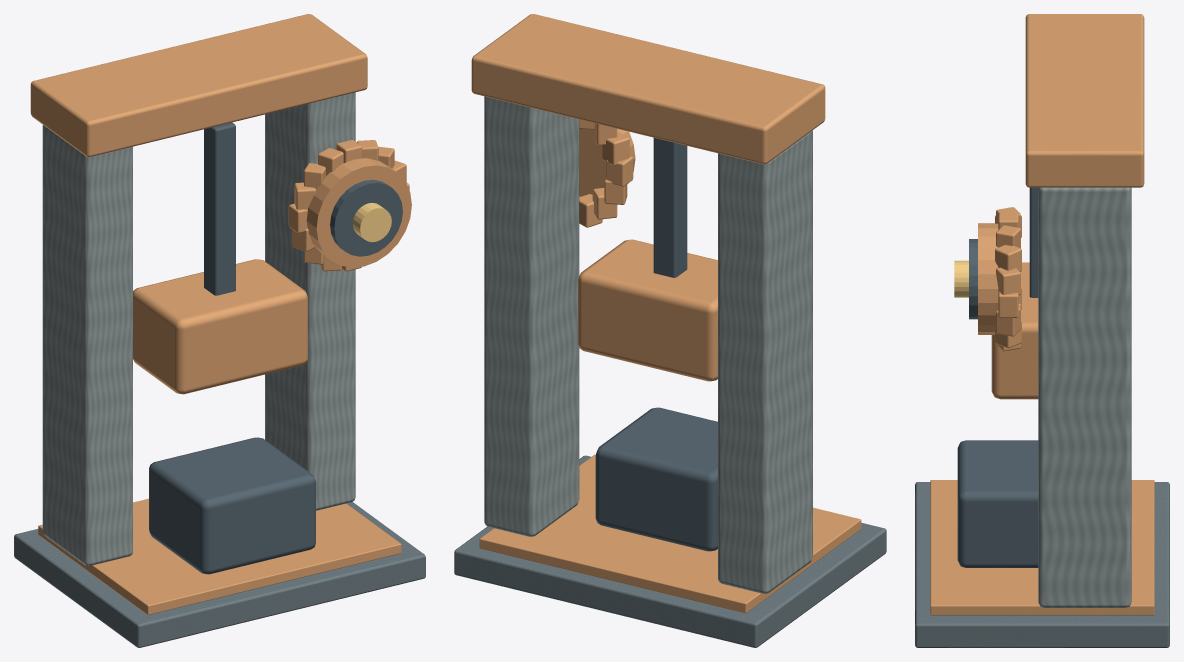
Rendered from dwarven-runeforge-dungeon-dwarven-runeforge-dungeon-ha-e68195bb__28602.glb.
3 renders of one model, left to right at view 1: azimuth 30°, elevation 25°; view 2: azimuth 150°, elevation 25°; view 3: azimuth 270°, elevation 25°, orthographic. The views are drawn at different scales.
Visible parts, largest first — view 1: dwarven-runeforge-dungeon-hammer-machine, ram (×2); view 2: dwarven-runeforge-dungeon-hammer-machine, ram (×2); view 3: dwarven-runeforge-dungeon-hammer-machine, ram (×2).
Part boxes in pixels (x1=…): dwarven-runeforge-dungeon-hammer-machine: x1=14, y1=14, x2=425, y2=647; ram (×2): x1=133, y1=122, x2=307, y2=394; dwarven-runeforge-dungeon-hammer-machine: x1=454, y1=14, x2=886, y2=647; ram (×2): x1=578, y1=138, x2=717, y2=381; dwarven-runeforge-dungeon-hammer-machine: x1=915, y1=14, x2=1169, y2=647; ram (×2): x1=991, y1=187, x2=1038, y2=399.
Bounding box in the file's own units: 2.17 × 3.21 × 1.5.
Materials: 5 (2 with a texture image).
